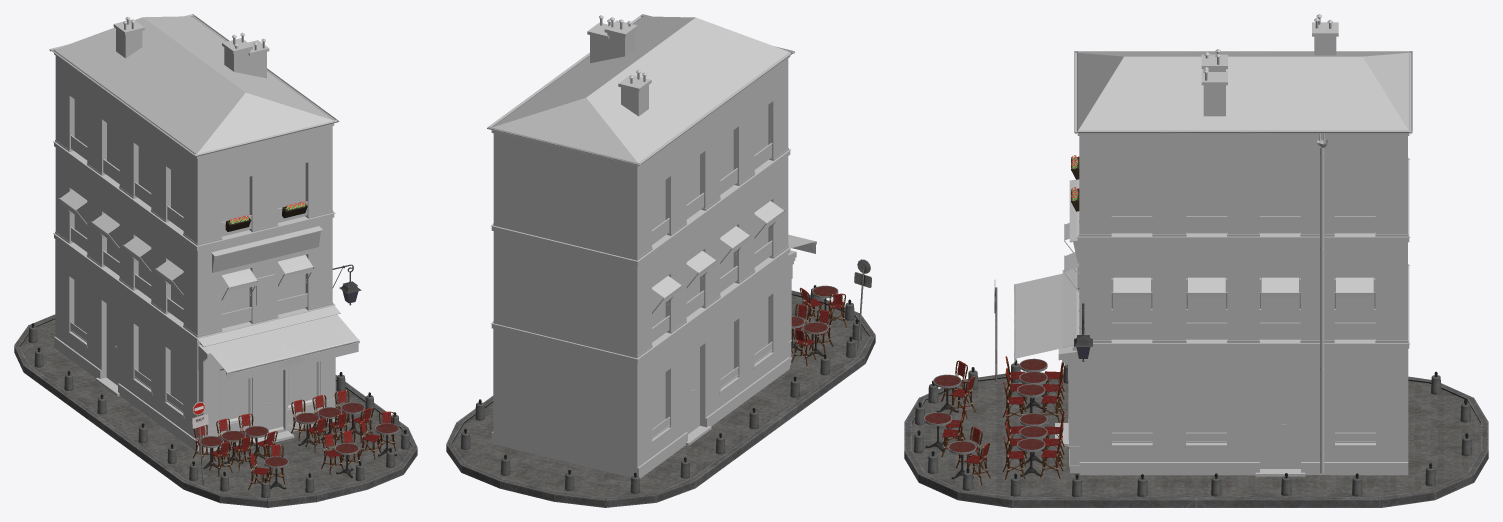
Rendered from ParisRestaurant.fbx.
3 views of the same model, side by side, from view 1: azimuth 30°, elevation 25°; view 2: azimuth 150°, elevation 25°; view 3: azimuth 270°, elevation 25° (orthographic). The views are drawn at different scales.
Parts seen in each view (by area): view 1: polySurface116, polySurface225, polySurface230; view 2: polySurface116, polySurface225, polySurface230; view 3: polySurface116, polySurface225.
Part boxes in pixels (x1,y1,x2,y2): polySurface116: (49, 14, 359, 453); polySurface225: (14, 314, 417, 507); polySurface230: (191, 401, 208, 485); polySurface116: (487, 14, 816, 478); polySurface225: (446, 290, 875, 507); polySurface230: (854, 259, 871, 349); polySurface116: (1014, 14, 1412, 476); polySurface225: (904, 372, 1488, 507).
Size of the model in its own units: 9.96 by 15.04 by 19.36.
